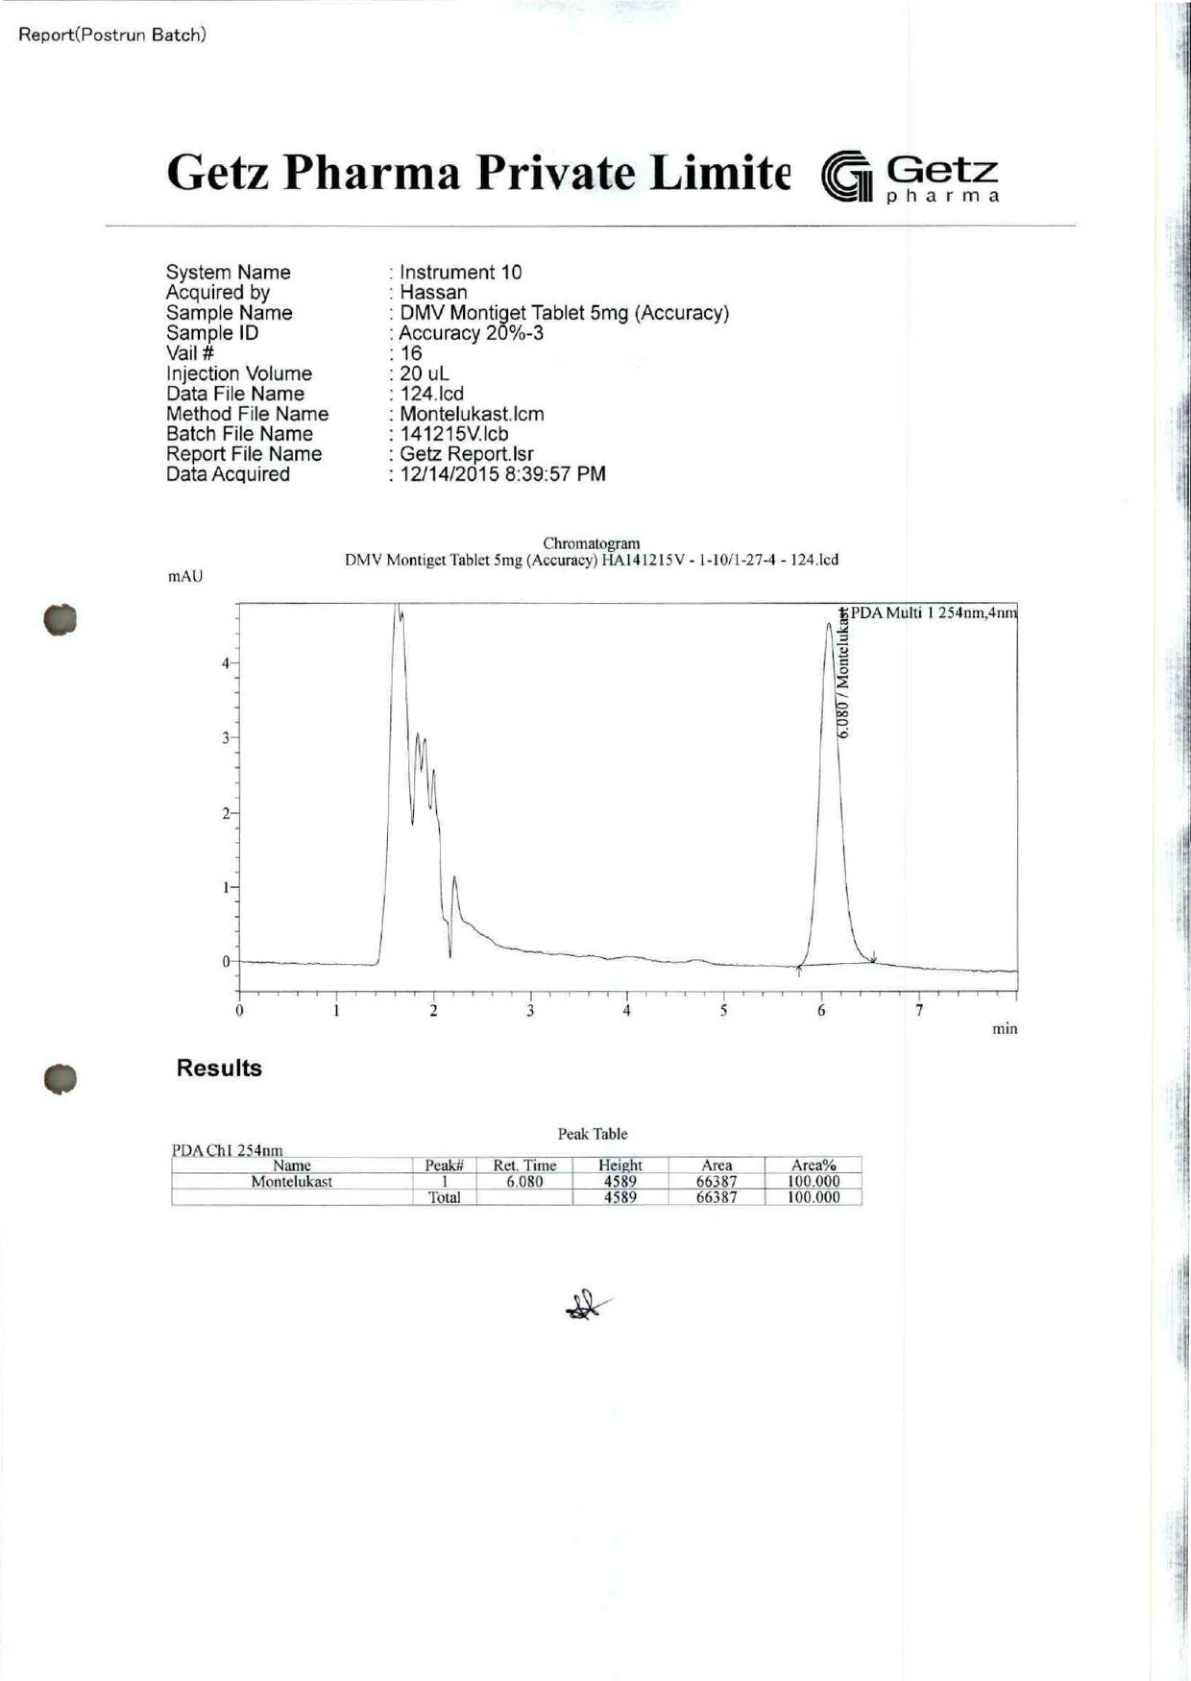full_lined: (171, 1155, 864, 1207)
nolines: (162, 258, 731, 486)
